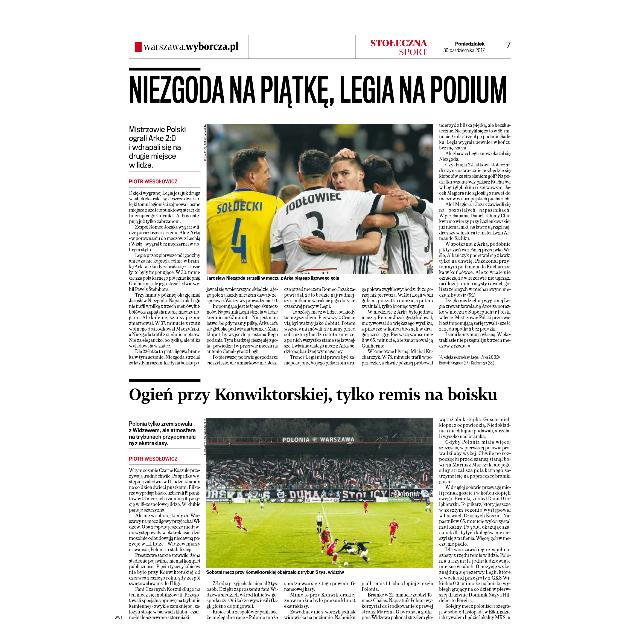article: (127, 66, 513, 370), (128, 377, 514, 625)
